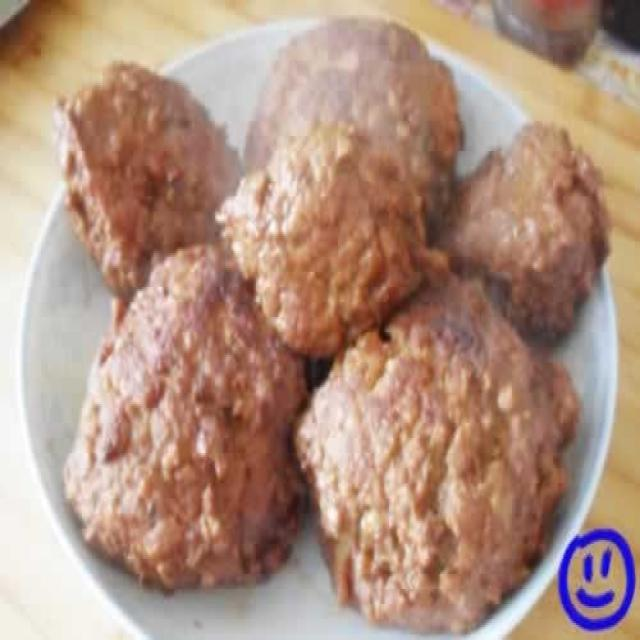猪肉菜式: (23, 21, 612, 634)
